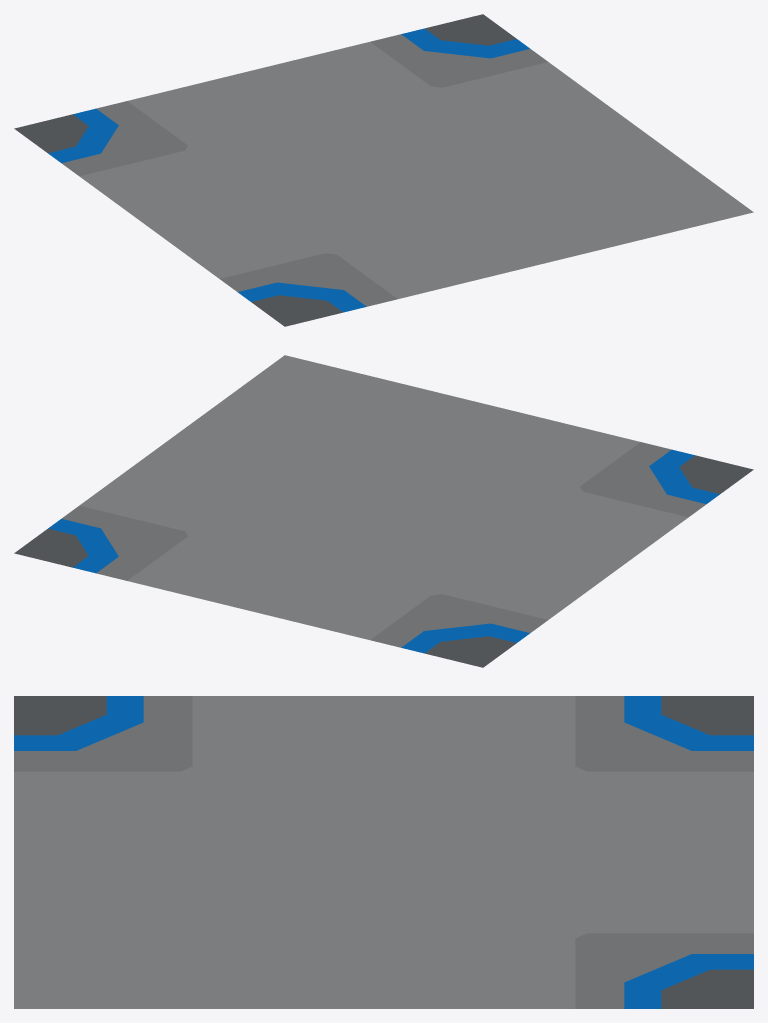
File: Ceiling_type_B_028.fbx
3 views of the same model, one above another, from view 1: azimuth 30°, elevation 25°; view 2: azimuth 150°, elevation 25°; view 3: azimuth 270°, elevation 25° (orthographic). The views are drawn at different scales.
Visible parts, largest first — view 1: Ceiling_type_B_028; view 2: Ceiling_type_B_028; view 3: Ceiling_type_B_028.
Part boxes in pixels (box(x1,y1,x2,y2)): Ceiling_type_B_028: box(14, 14, 753, 326); Ceiling_type_B_028: box(14, 355, 753, 667); Ceiling_type_B_028: box(14, 696, 753, 1008).
Size of the model in its own units: 400 by 400 by 6.18.
